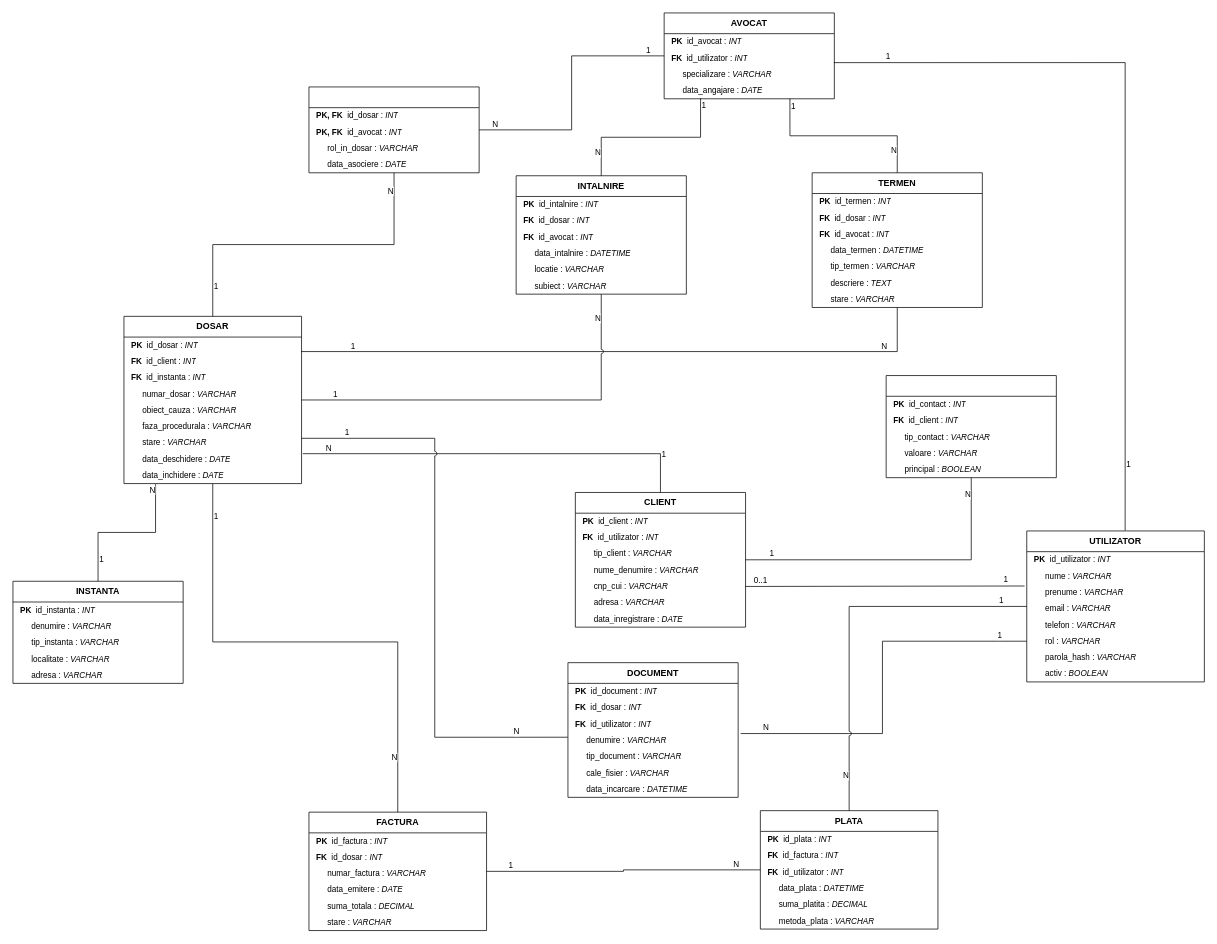
The diagram is 1217 pixels wide and 944 high, and some of its shapes have lost their labels. Here are the shapes that lost their labels. From the top down, the box of each, then its label:
(308, 86, 479, 173): DOSAR_AVOCAT
(885, 375, 1056, 478): CONTACT_CLIENT
